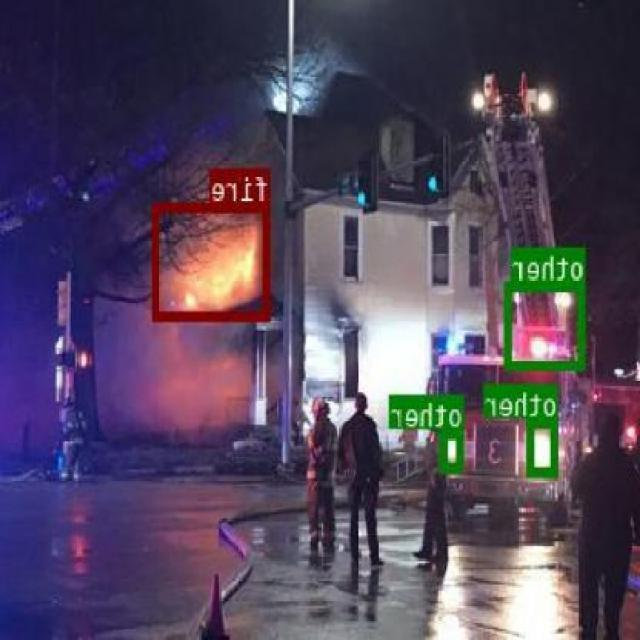Fire: (154, 202, 272, 318)
